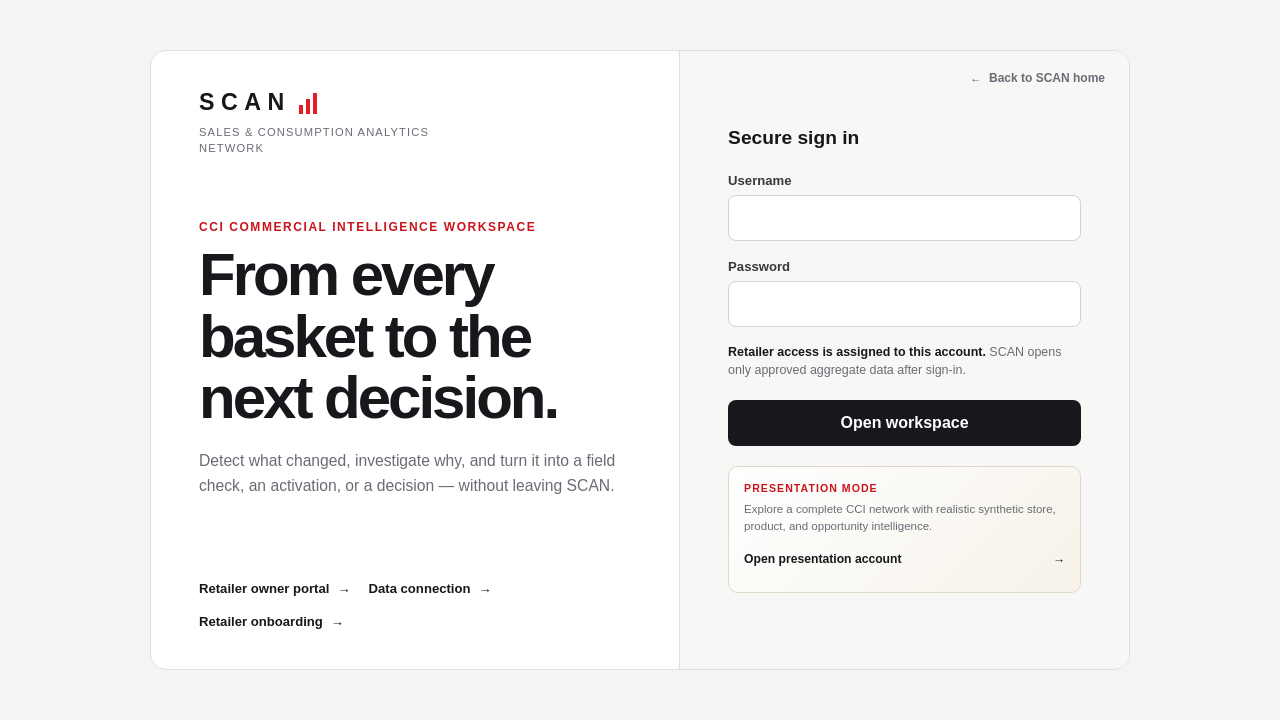
Test: CciDashboard › returns to sign-in with the API message after a 401
Type "scan-demo-cci" into the field labelled "Username" at (905, 218), box [728,195,1081,241]
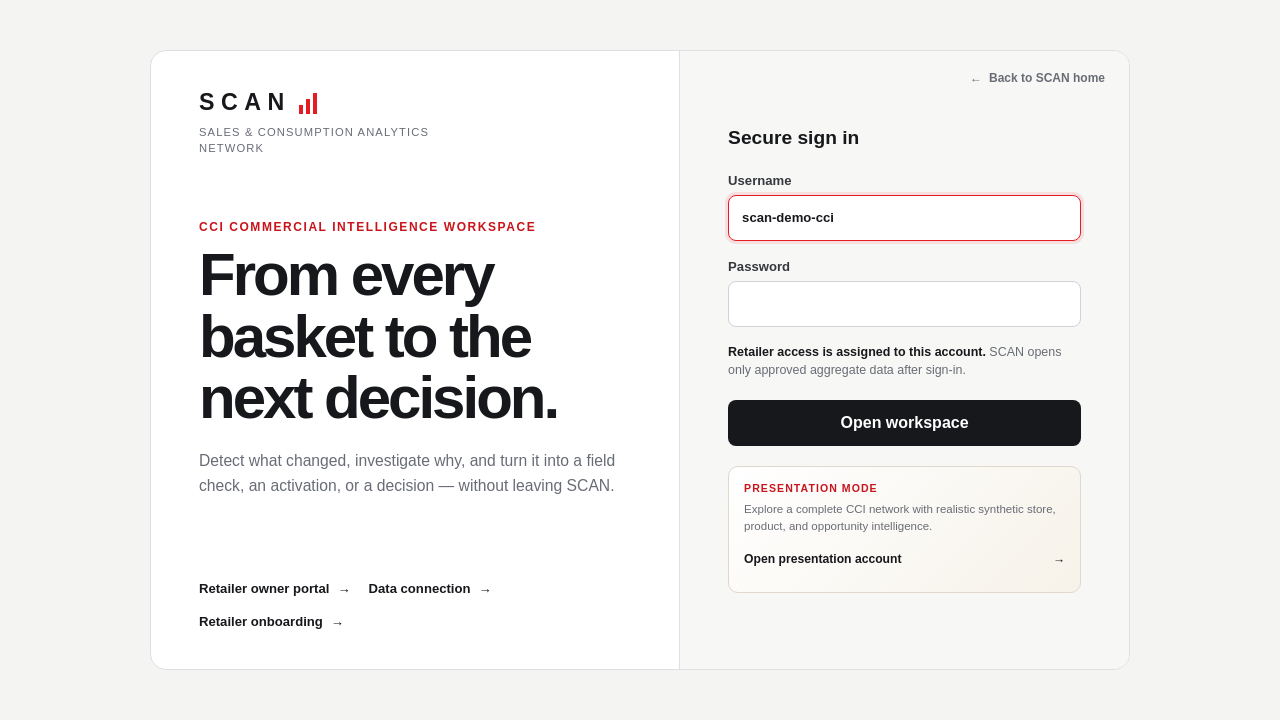
Type "wrong" into the password field labelled "Password" at (905, 304), box [728,281,1081,327]
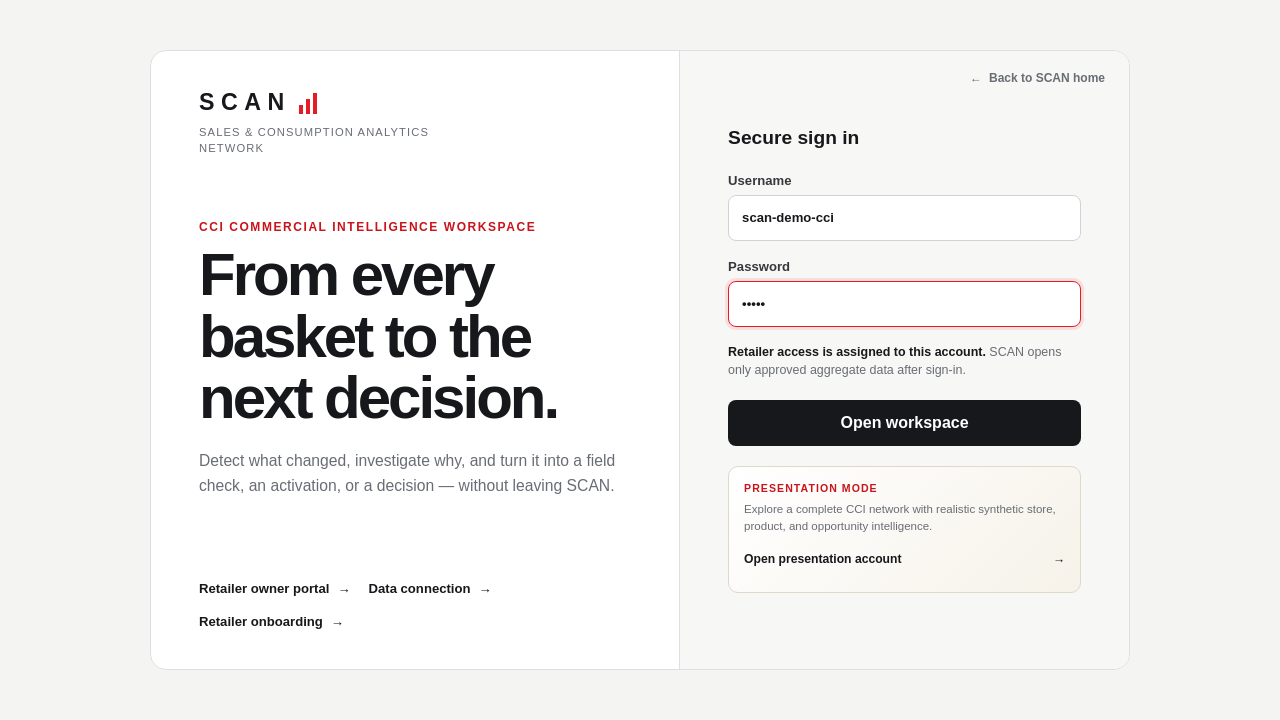
Click the button "Open workspace" at (905, 423), box [728,400,1081,446]
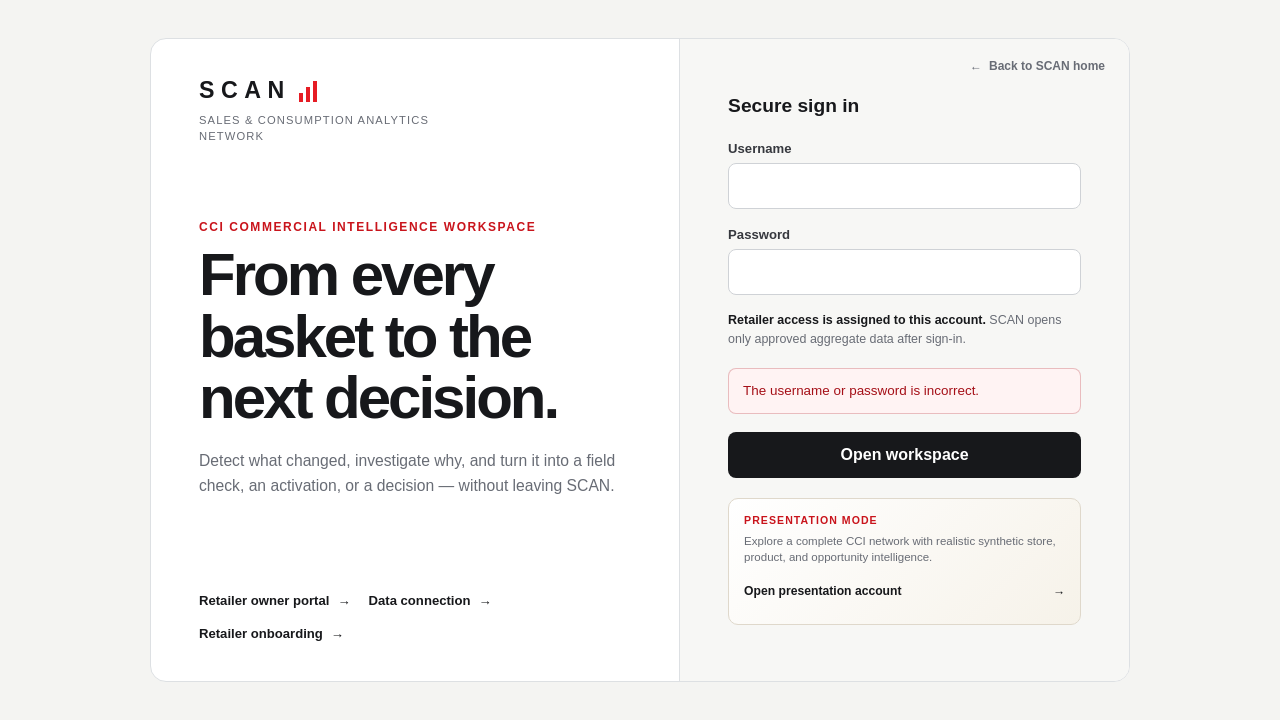
Result: the message reads "The username or password is incorrect." at [743,383,979,398]
Result: the password field labelled "Password" is empty at [728,249,1081,295]
